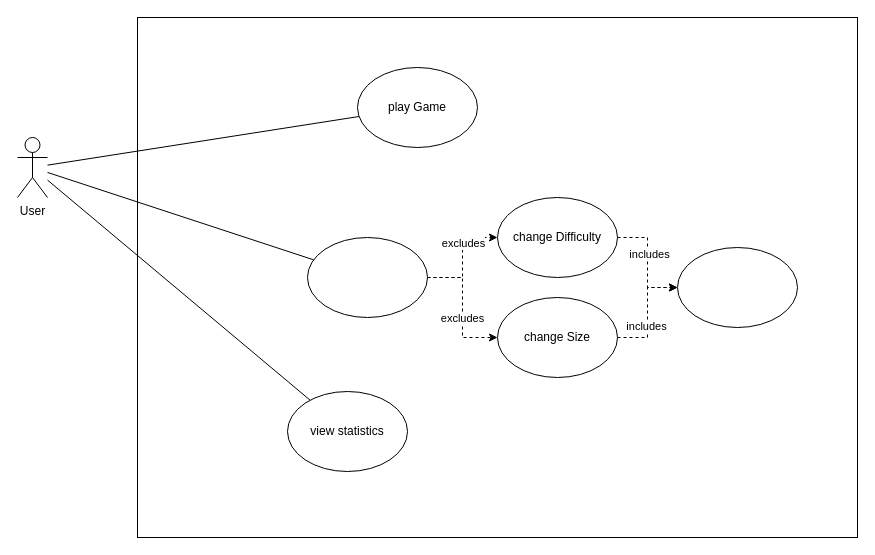
Image size: 875x555. Some labels were removed from this diagram. The centre of each missing label's shape, as x and y in pixels:
"Options" goes at (x=367, y=277).
"safe new Game settings" goes at (x=737, y=287).
